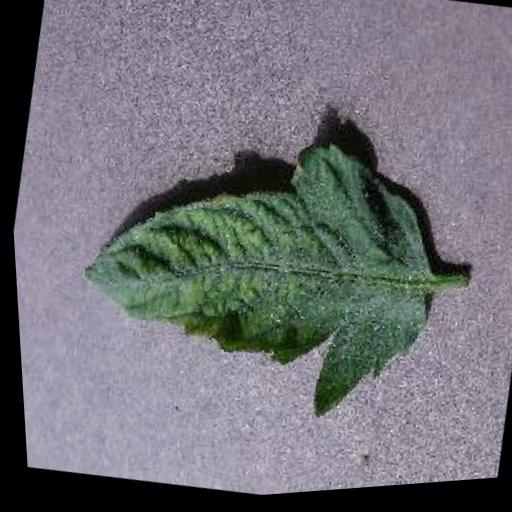Mosaic Virus: (51, 96, 464, 459)
